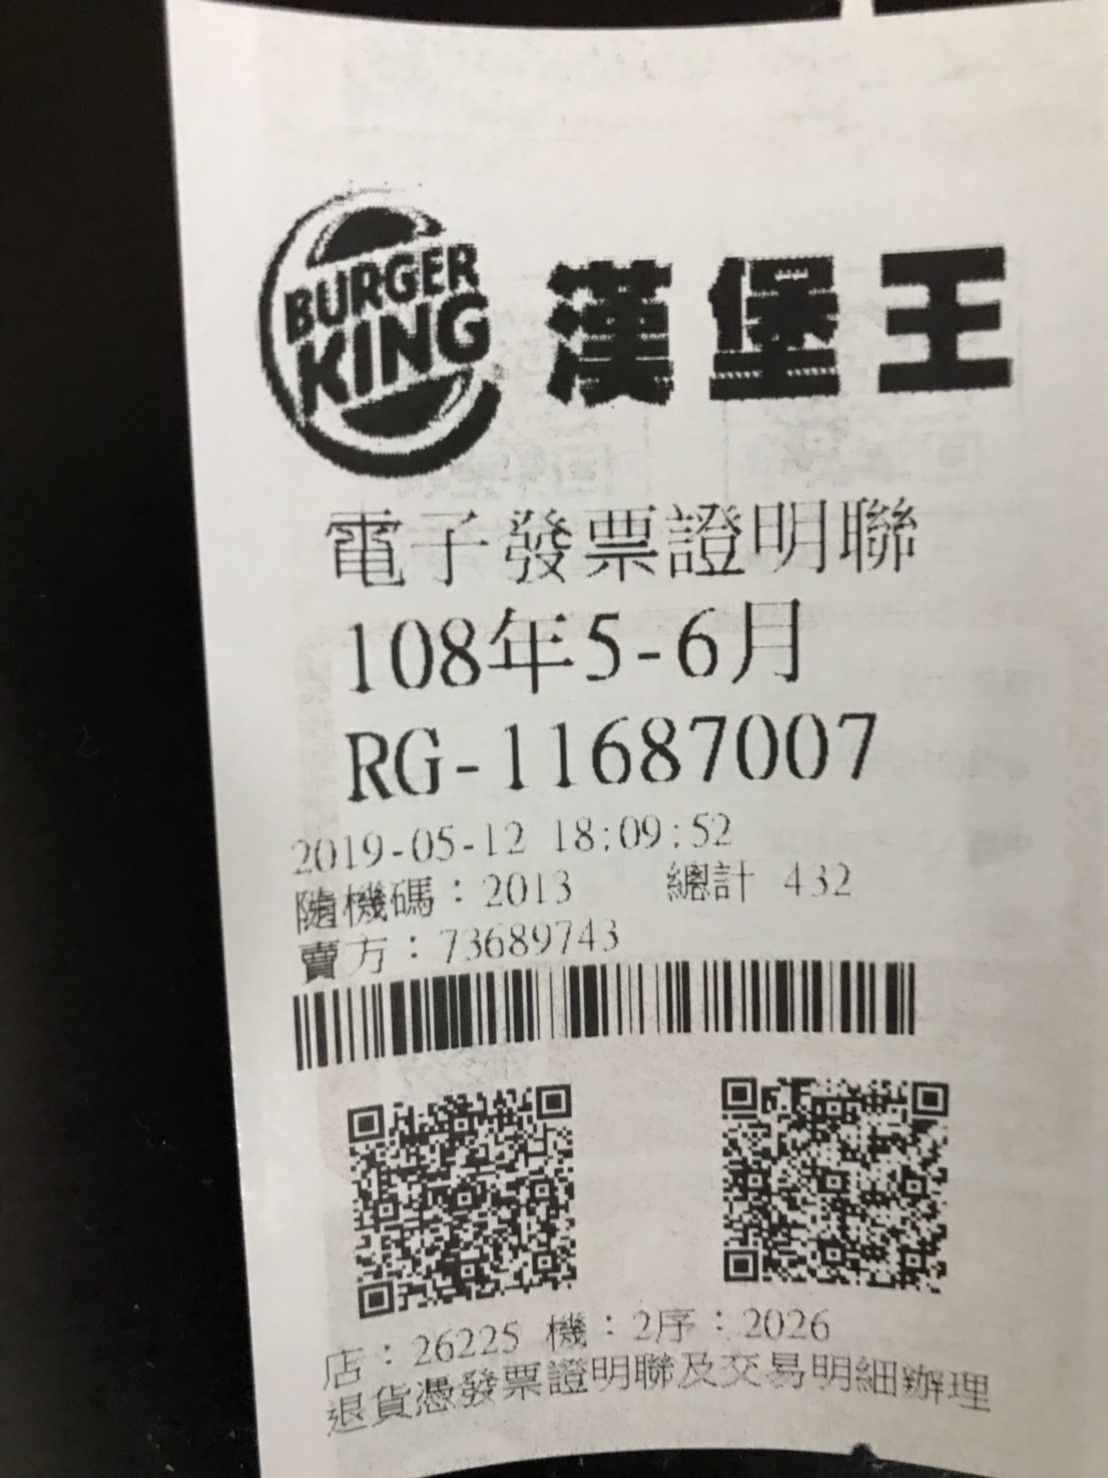Date_New: (347, 597, 812, 701)
Number_New: (498, 708, 882, 794)
